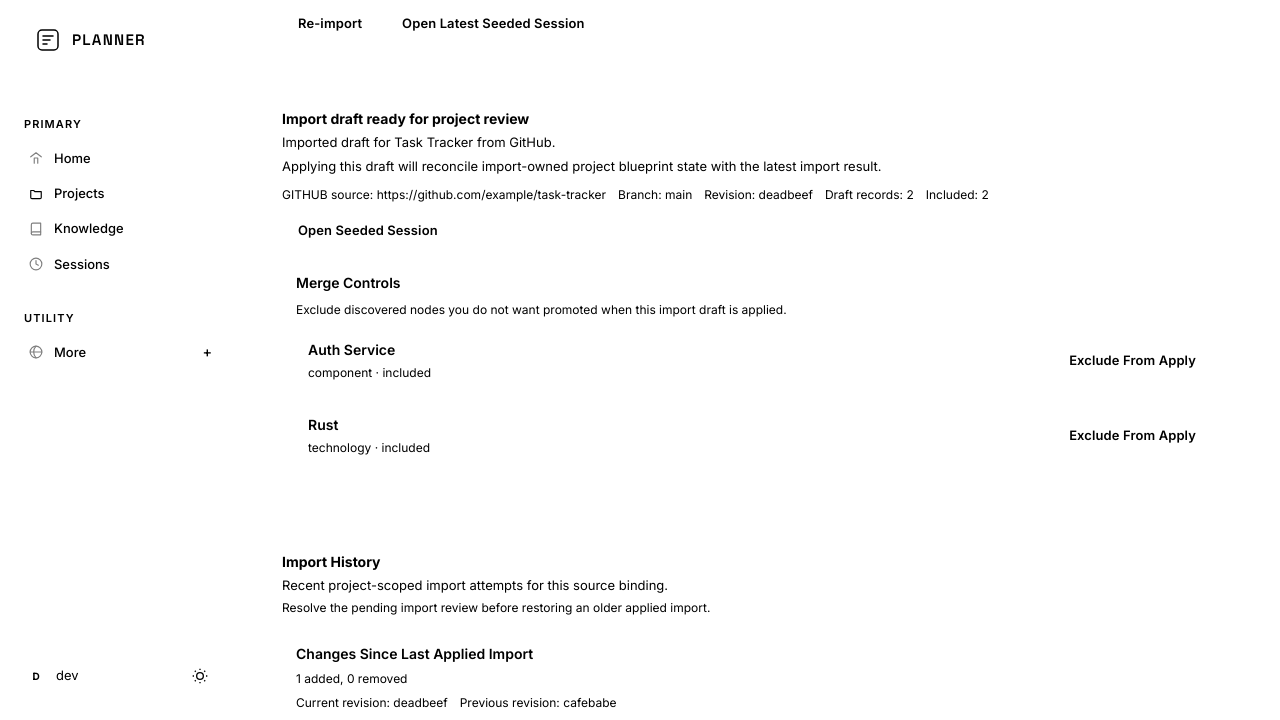
Test case: ProjectSessionsPage import review › updates merge controls for the current review draft
This screenshot has width=1280, height=720.
(page scrolled)
Expected: the text "Merge Controls" is shown, [296,274,400,291]
Click the button "Exclude From Apply" in the row of "Auth Service" at (1133, 360), box [1053,344,1212,377]
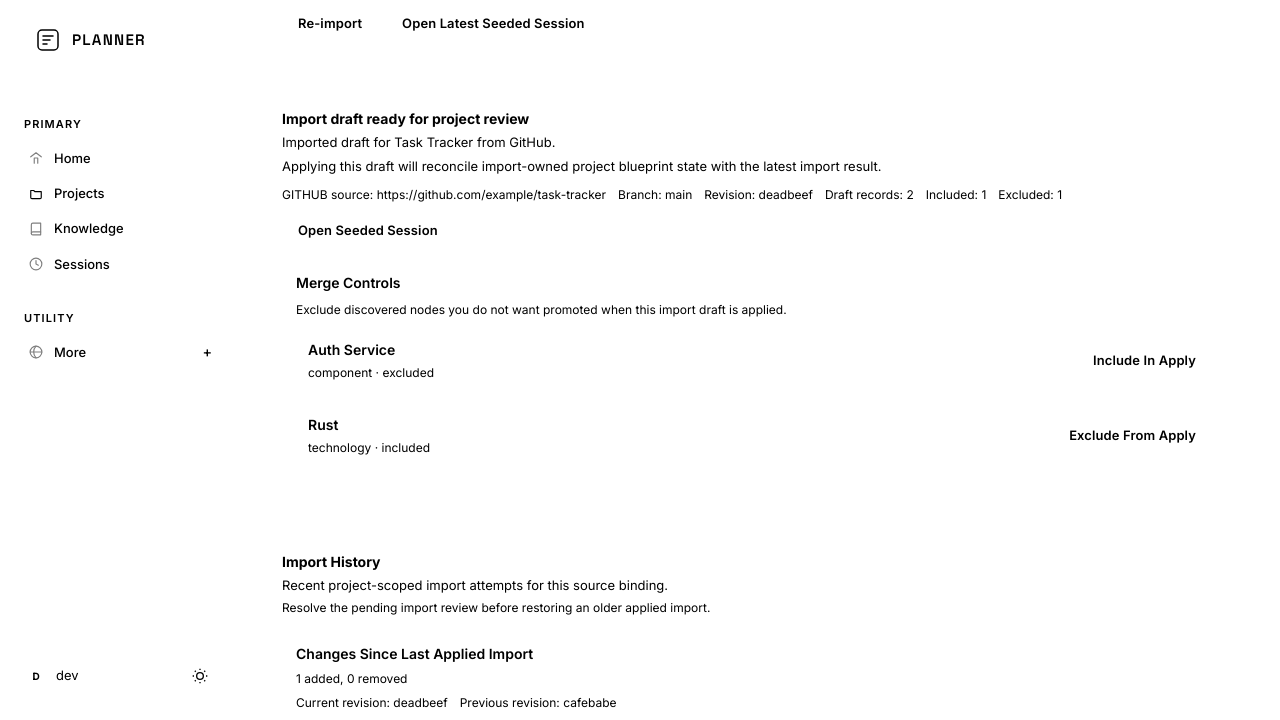
Expected: the text "Included: 1" is shown, [926,186,986,204]
Expected: the text "Excluded: 1" is shown, [998,186,1062,204]
Expected: the text "component · excluded" is shown, [308,364,434,382]
